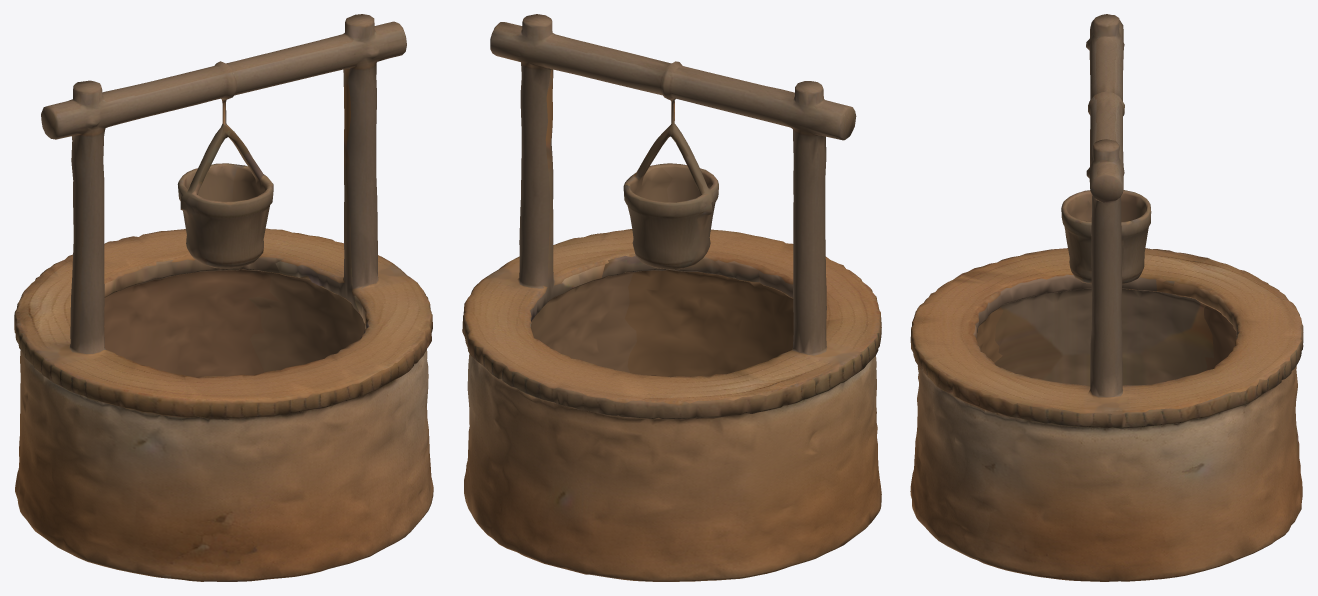
Rendered from pozo.glb.
The picture shows the model from 3 angles, left to right: view 1: azimuth 30°, elevation 25°; view 2: azimuth 150°, elevation 25°; view 3: azimuth 270°, elevation 25°; orthographic projection. The views are drawn at different scales.
Parts seen in each view (by area): view 1: temp_mesh.ply; view 2: temp_mesh.ply; view 3: temp_mesh.ply.
Part boxes in pixels (bbox=[...]): temp_mesh.ply: bbox=[14, 14, 433, 581]; temp_mesh.ply: bbox=[462, 14, 881, 581]; temp_mesh.ply: bbox=[910, 14, 1303, 581].
Size of the model in its own units: 1.9 by 2.2 by 1.88.
1 material, 1 textured.
